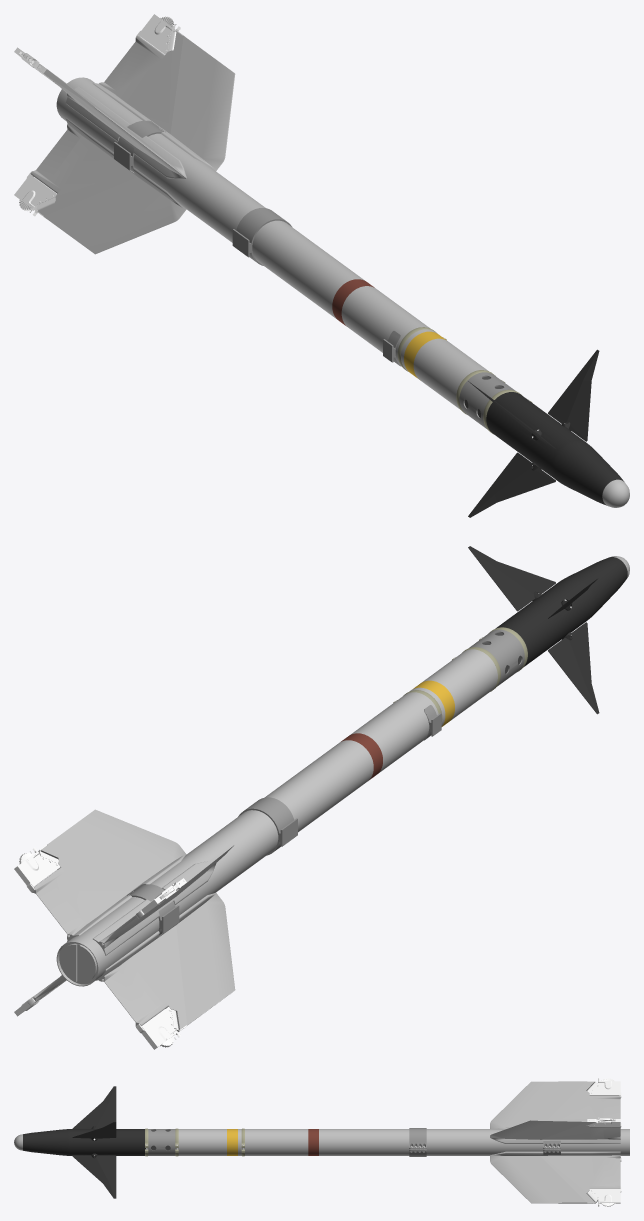
File: aim-9m_sidewinder.glb
3 renders of one model, top to bottom at view 1: azimuth 30°, elevation 25°; view 2: azimuth 150°, elevation 25°; view 3: azimuth 270°, elevation 25°, orthographic. The views are drawn at different scales.
Parts seen in each view (by area): view 1: Cylinder_52, Plane.008_47, Plane.001_41, Plane.004_44, Cube.012_9, Cube.014_11, Cylinder.021_25, Cylinder.002_12, Cylinder.024_28, Cylinder.010_18, Cylinder.018_23; view 2: Cylinder_52, Plane.008_47, Plane.001_41, Plane.004_44, Cube.012_9, Cube.014_11, Cylinder.021_25, Cylinder.002_12, Cylinder.024_28, Cylinder.010_18; view 3: Cylinder_52, Plane.017_51, Plane.004_44, Plane.001_41, Cube.011_8, Cube.013_10, Cylinder.021_25, Cylinder.036_39, Cube.014_11, Cylinder.011_19, Cylinder.018_23, Cylinder.010_18 (+1 smaller).
Part boxes in pixels (x1,y1,x2,y2): Cylinder_52: (56, 77, 629, 507); Plane.008_47: (30, 117, 186, 254); Plane.001_41: (92, 31, 235, 170); Plane.004_44: (36, 69, 186, 178); Cube.012_9: (468, 452, 555, 517); Cube.014_11: (548, 349, 599, 441); Cylinder.021_25: (232, 208, 291, 265); Cylinder.002_12: (138, 14, 180, 54); Cylinder.024_28: (14, 174, 56, 216); Cylinder.010_18: (114, 121, 163, 172); Cylinder.018_23: (397, 327, 532, 434); Cylinder_52: (56, 556, 629, 986); Plane.008_47: (96, 892, 235, 1029); Plane.001_41: (32, 809, 186, 941); Plane.004_44: (93, 843, 234, 955); Cube.012_9: (548, 622, 599, 714); Cube.014_11: (468, 546, 555, 611); Cylinder.021_25: (238, 797, 297, 855); Cylinder.002_12: (14, 847, 60, 886); Cylinder.024_28: (141, 1006, 180, 1049); Cylinder.010_18: (128, 884, 179, 935); Cylinder_52: (14, 1129, 629, 1155); Plane.017_51: (490, 1151, 620, 1203); Plane.004_44: (490, 1081, 620, 1128); Plane.001_41: (490, 1119, 620, 1143); Cube.011_8: (72, 1153, 116, 1198); Cube.013_10: (72, 1086, 116, 1128); Cylinder.021_25: (409, 1128, 426, 1156); Cylinder.036_39: (587, 1188, 620, 1206); Cube.014_11: (72, 1122, 116, 1141); Cylinder.011_19: (587, 1081, 620, 1095); Cylinder.018_23: (145, 1128, 244, 1156); Cylinder.010_18: (543, 1140, 560, 1154).
Size of the model in its own units: 0.2655 by 0.2655 by 1.66.
